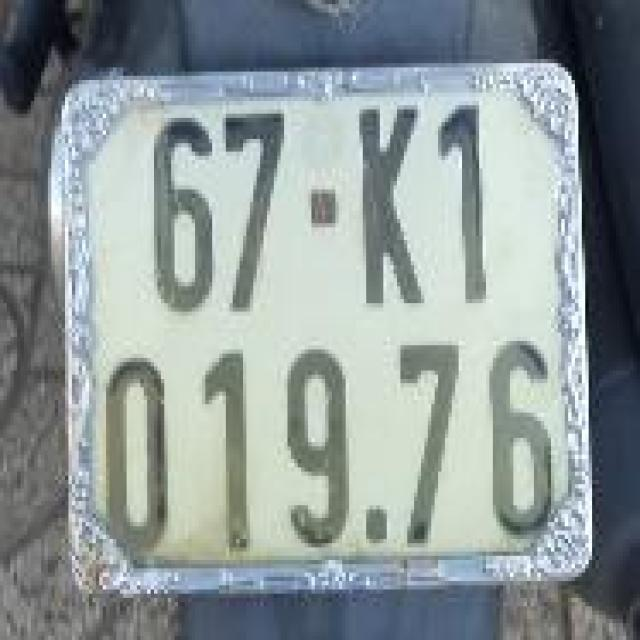0: (94, 328, 170, 564)
1: (188, 343, 264, 558), (436, 97, 498, 316)
6: (478, 324, 566, 552), (144, 93, 212, 320)
7: (385, 324, 464, 543), (214, 97, 289, 316)
9: (278, 337, 360, 547)
K: (344, 97, 429, 311)
